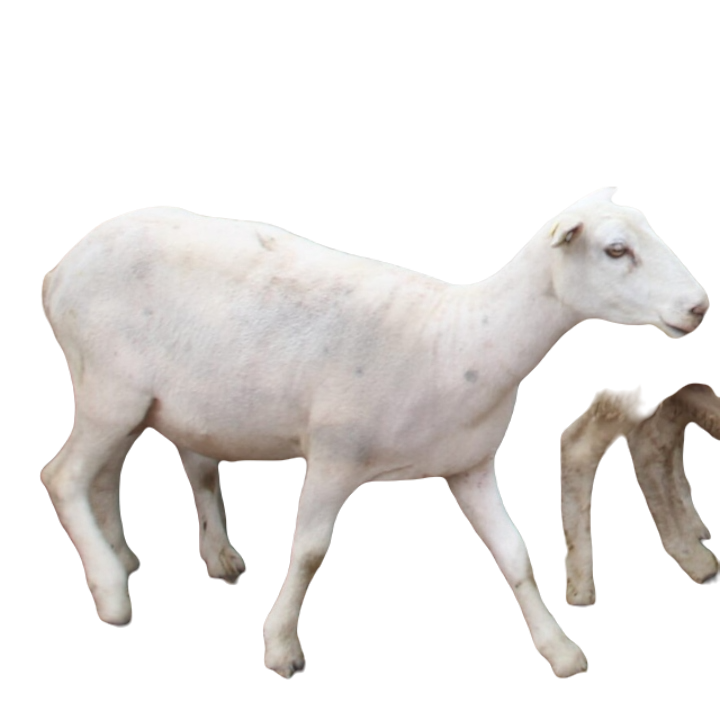Sheep: (33, 169, 711, 684)
